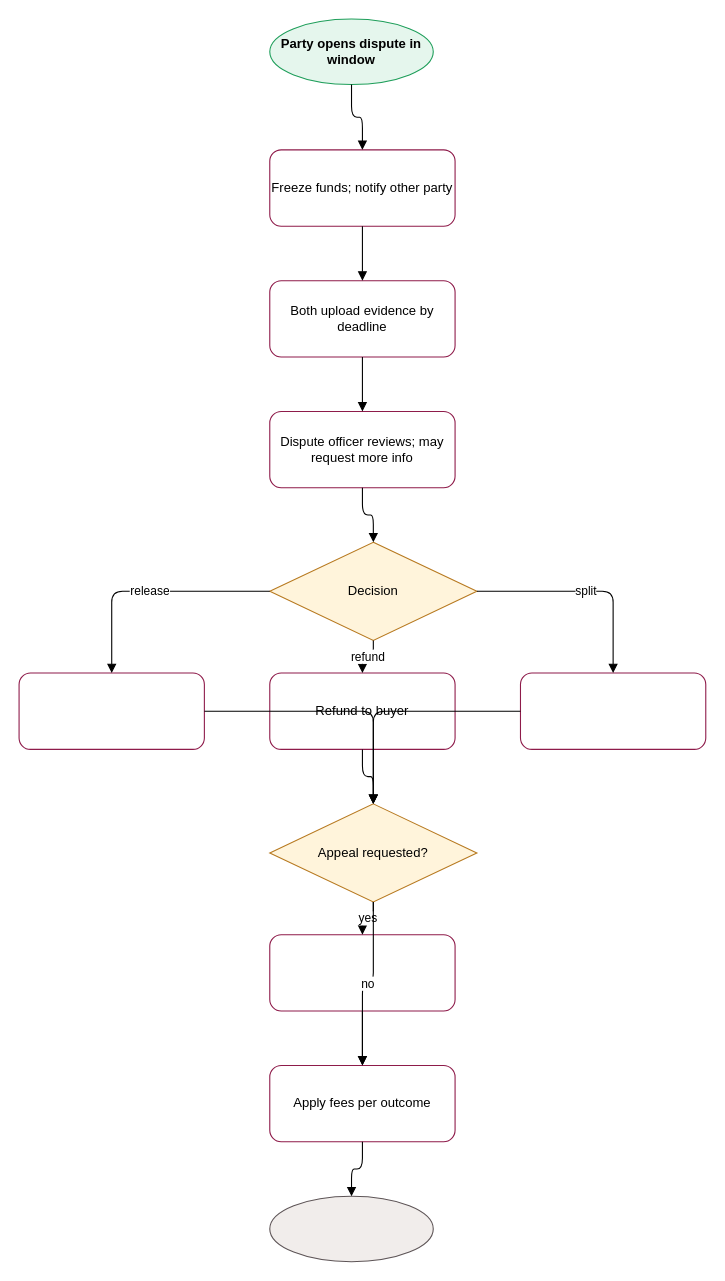
The diagram is 725 pixels wide and 1281 high, and some of its shapes have lost their labels. The centre of each missing label's shape, as x and y in pixels:
Closed with rationale: (351,1228)
Release to seller: (111,710)
Second reviewer decides: (362,972)
Split per decision: (612,710)
